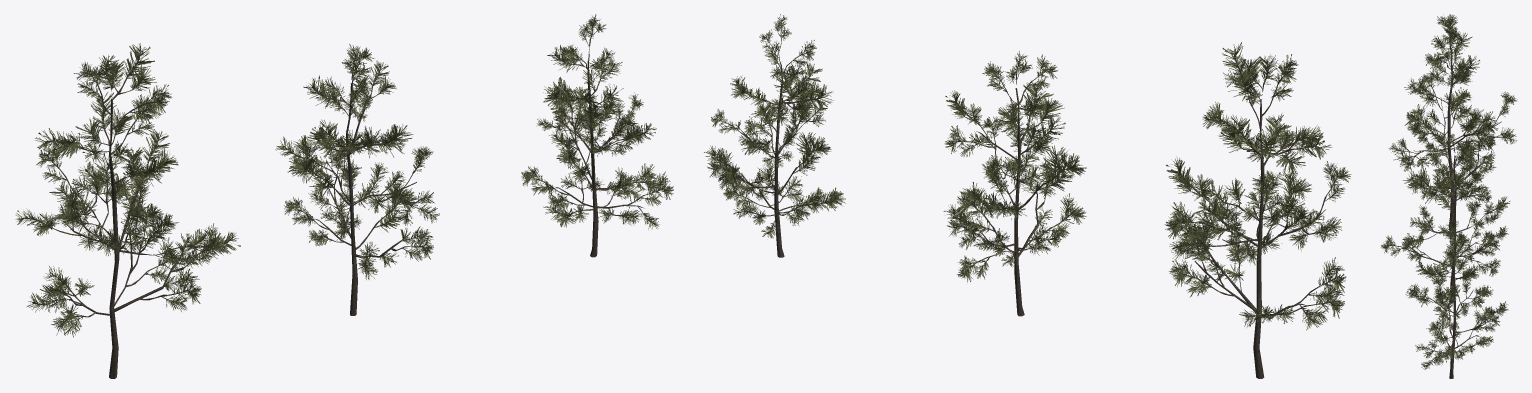
Rendered from pine-web.glb.
3 renders of one model, left to right at view 1: azimuth 30°, elevation 25°; view 2: azimuth 150°, elevation 25°; view 3: azimuth 270°, elevation 25°, orthographic. The views are drawn at different scales.
Parts seen in each view (by area): view 1: pine_sapling_small_a, pine_sapling_small_b, pine_sapling_small_c; view 2: pine_sapling_small_a, pine_sapling_small_b, pine_sapling_small_c; view 3: pine_sapling_small_a, pine_sapling_small_b, pine_sapling_small_c.
Boxes of the visible parts, left/top/right/bottom form: pine_sapling_small_a: left=15, top=43, right=240, bottom=378; pine_sapling_small_b: left=275, top=44, right=439, bottom=315; pine_sapling_small_c: left=521, top=14, right=673, bottom=257; pine_sapling_small_a: left=1164, top=42, right=1351, bottom=378; pine_sapling_small_b: left=943, top=51, right=1086, bottom=316; pine_sapling_small_c: left=704, top=14, right=845, bottom=257; pine_sapling_small_a: left=1388, top=14, right=1517, bottom=230; pine_sapling_small_b: left=1381, top=134, right=1510, bottom=303; pine_sapling_small_c: left=1405, top=222, right=1508, bottom=378.
Bounding box in the file's own units: 2.64 × 1.3 × 0.7704.
2 materials, 2 textured.
